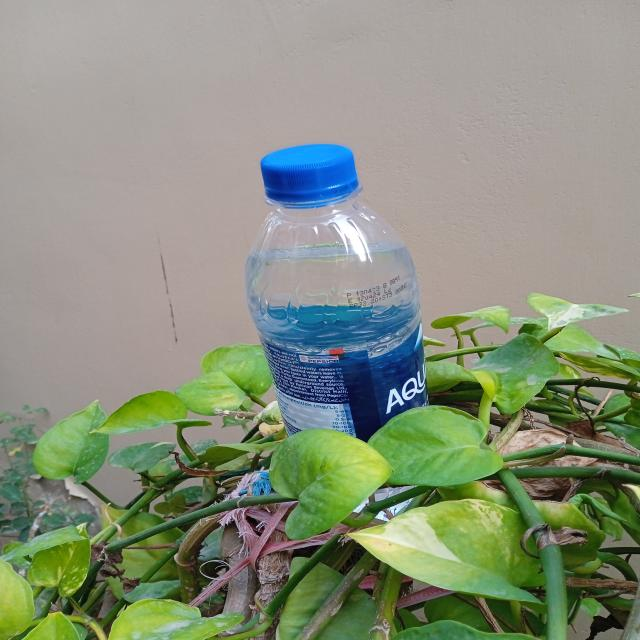Plastic: (248, 144, 427, 433)
